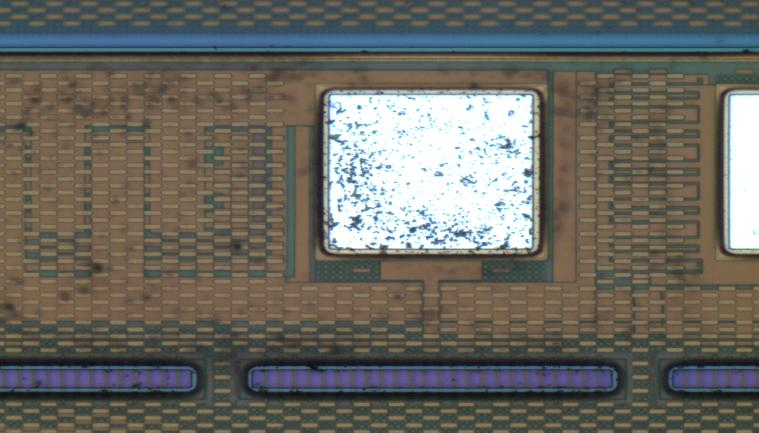PO CONTAMINATION: (1, 53, 710, 380)
